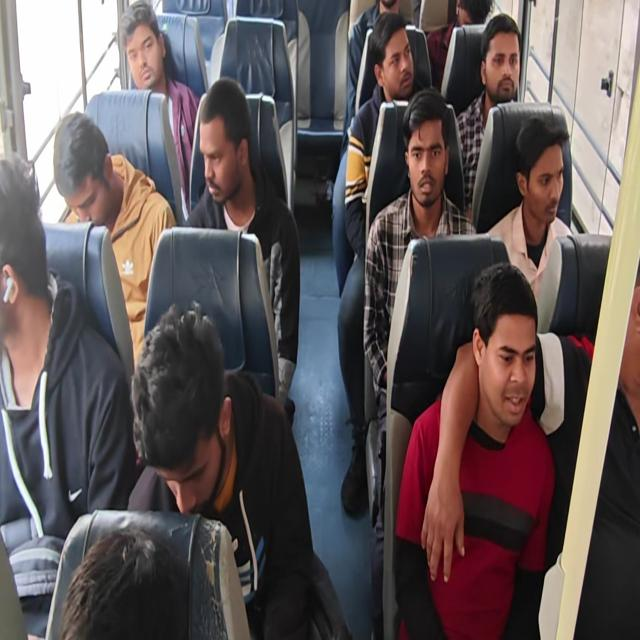person: (128, 304, 233, 508), (48, 525, 196, 639), (468, 262, 537, 433), (0, 127, 49, 360), (49, 87, 118, 240), (192, 73, 258, 207), (397, 87, 449, 229), (510, 107, 566, 228), (372, 11, 425, 113), (116, 0, 167, 105), (483, 8, 521, 104), (453, 0, 493, 32), (371, 0, 404, 19)
